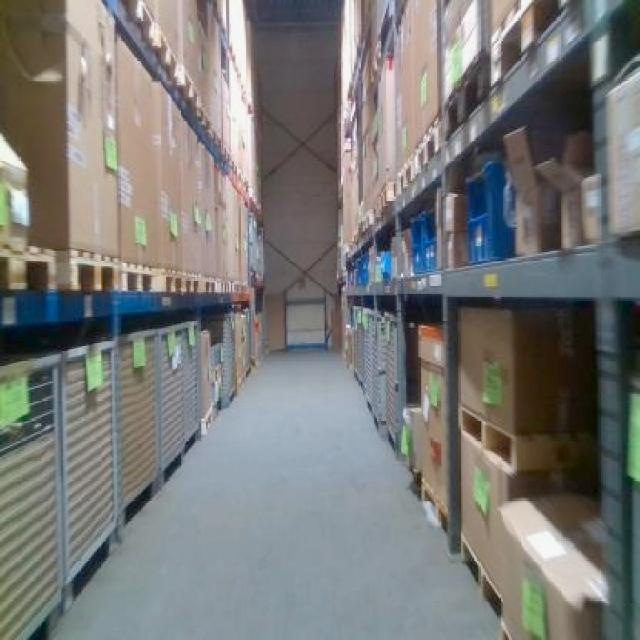pallets: (337, 0, 637, 637), (489, 492, 605, 637)
